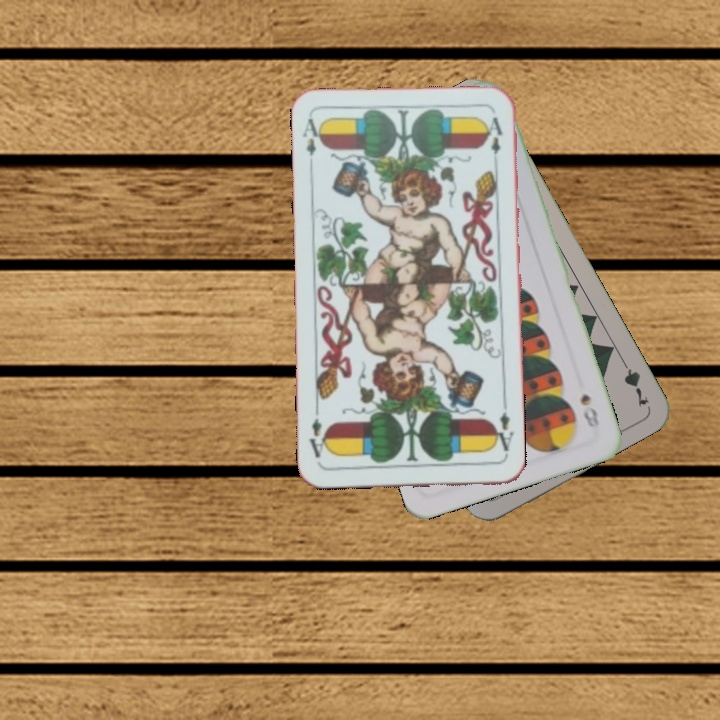EA: (489, 400, 516, 459), (298, 114, 325, 172)
G7: (616, 353, 652, 410)
S8: (576, 390, 602, 430)
